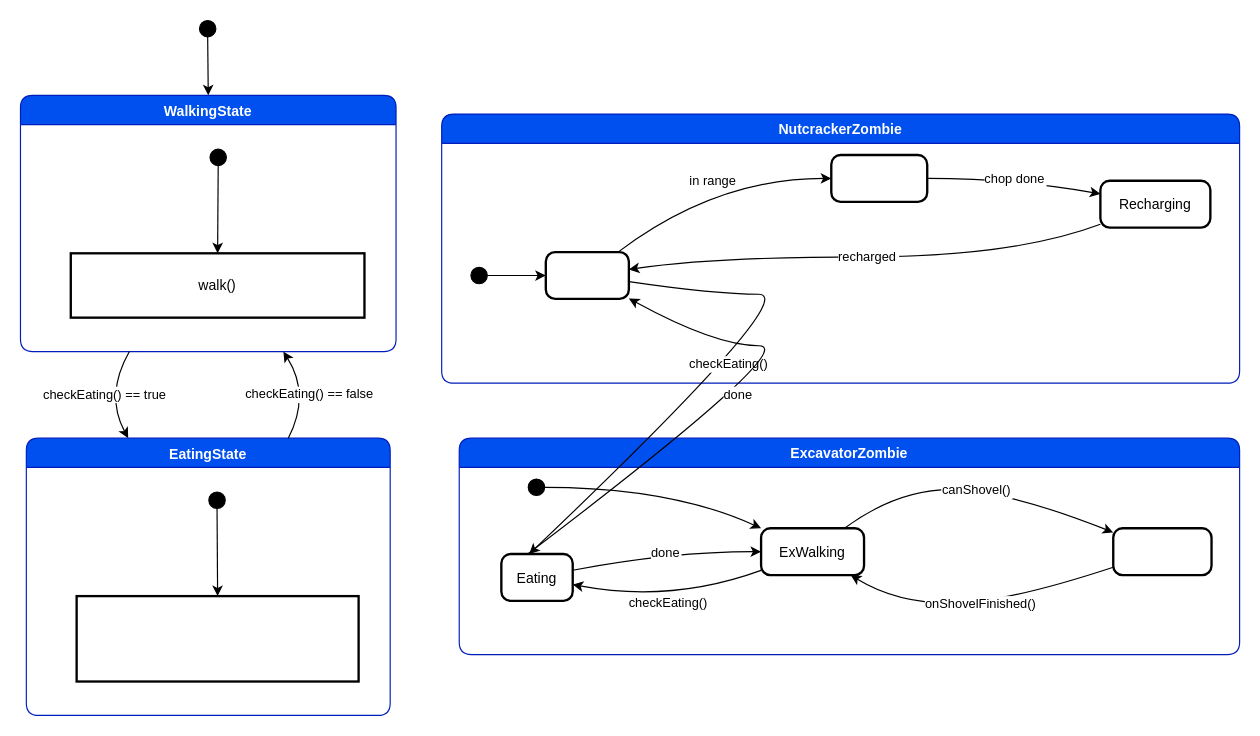
Some shapes in this 1260 by 736 pixel diagram are drawn without their labels. The centre of each missing label's shape, as x and y in pixels:
"Chopping" goes at [879,177].
"Shoveling" goes at [1162,551].
"update()" goes at [217,638].
"Walking" goes at [586,275].
